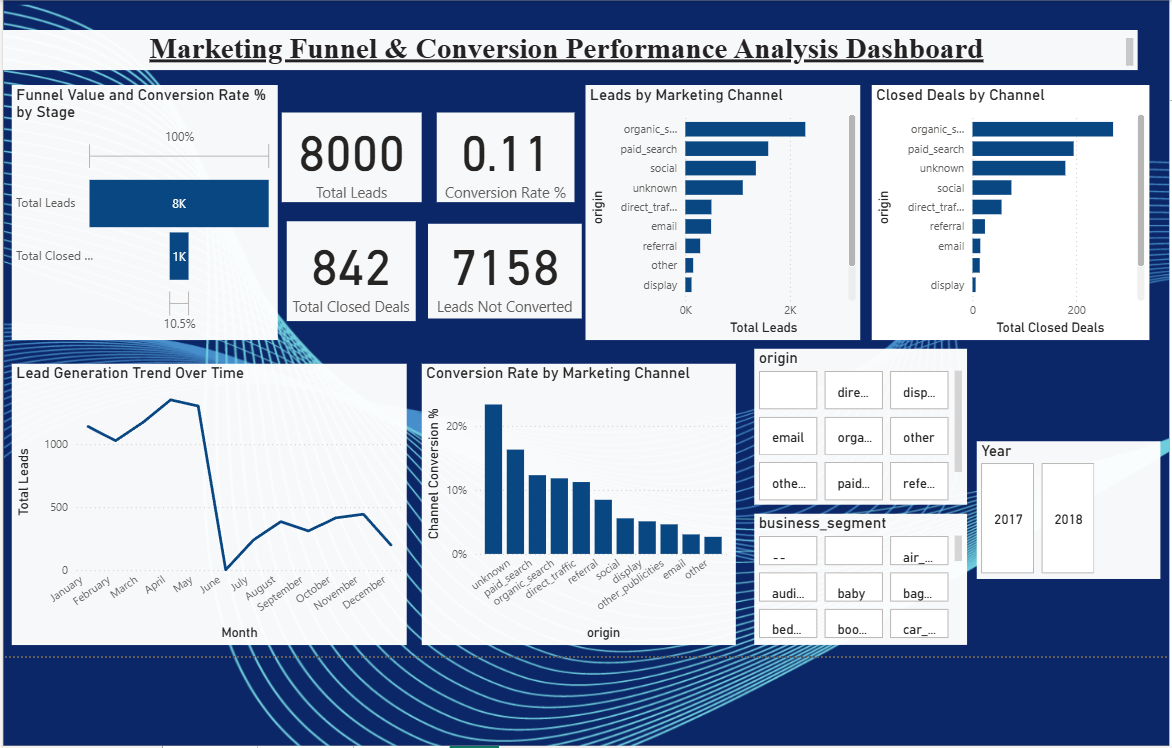

The page's visual inventory and layout, read from the dashboard file:
{"tool":"powerbi","page":{"name":"Page 3","canvas":[1280,720],"ordinal":0},"visuals":[{"type":"funnel","fields":{"Category":["Funnel Stages.Stage"],"Y":["Funnel Stages.Funnel Value"]},"box":[9.6,93.3,292.3,279.9],"z":0},{"type":"lineChart","title":"Lead Generation Trend Over Time","fields":{"Category":["olist_marketing_qualified_leads_dataset.first_contact_date.Variation.Date Hierarchy.Month"],"Y":["olist_closed_deals_dataset.Total Leads"]},"box":[9.6,399.3,433.6,308.7],"z":1000},{"type":"card","fields":{"Values":["olist_closed_deals_dataset.Total Leads"]},"box":[306,123.5,153.7,98.8],"z":2000},{"type":"card","fields":{"Values":["olist_closed_deals_dataset.Total Closed Deals"]},"box":[311.5,242.9,141.3,109.8],"z":3000},{"type":"card","fields":{"Values":["olist_closed_deals_dataset.Conversion Rate %"]},"box":[476.2,123.5,150.9,98.8],"z":4000},{"type":"card","fields":{"Values":["olist_closed_deals_dataset.Leads Not Converted"]},"box":[466.6,245.6,168.8,104.3],"z":5000},{"type":"clusteredBarChart","title":"Leads by Marketing Channel","fields":{"Y":["olist_closed_deals_dataset.Total Leads"],"Category":["olist_marketing_qualified_leads_dataset.origin"]},"box":[639.5,93.3,301.9,279.9],"z":6000},{"type":"clusteredBarChart","title":"Closed Deals by Channel","fields":{"Category":["olist_marketing_qualified_leads_dataset.origin"],"Y":["olist_closed_deals_dataset.Total Closed Deals"]},"box":[953.7,93.3,304.6,279.9],"z":7000},{"type":"clusteredColumnChart","title":"Conversion Rate by Marketing Channel","fields":{"Category":["olist_marketing_qualified_leads_dataset.origin"],"Y":["Funnel Stages.Channel Conversion %"]},"box":[459.7,399.3,344.4,308.7],"z":8000},{"type":"advancedSlicerVisual","fields":{"Values":["olist_marketing_qualified_leads_dataset.origin"]},"box":[824.7,382.8,233.3,171.5],"z":9000},{"type":"advancedSlicerVisual","fields":{"Values":["olist_closed_deals_dataset.business_segment"]},"box":[824.7,564,233.3,144.1],"z":10000},{"type":"advancedSlicerVisual","fields":{"Values":["olist_marketing_qualified_leads_dataset.first_contact_date.Variation.Date Hierarchy.Year"]},"box":[1069,484.4,201.7,150.9],"z":11000},{"type":"textbox","box":[0,32.9,1246,43.9],"z":12000}]}

Visuals, with their boxes in screenshot pixels (x1, y1, x2, y2):
funnel - Funnel Stages.Stage x Funnel Stages.Funnel Value: [12, 81, 276, 334]
"Lead Generation Trend Over Time" lineChart: [12, 358, 403, 636]
card - olist_closed_deals_dataset.Total Leads: [279, 108, 418, 198]
card - olist_closed_deals_dataset.Total Closed Deals: [284, 216, 412, 315]
card - olist_closed_deals_dataset.Conversion Rate %: [433, 108, 569, 198]
card - olist_closed_deals_dataset.Leads Not Converted: [424, 219, 577, 313]
"Leads by Marketing Channel" clusteredBarChart: [580, 81, 853, 334]
"Closed Deals by Channel" clusteredBarChart: [864, 81, 1139, 334]
"Conversion Rate by Marketing Channel" clusteredColumnChart: [418, 358, 729, 636]
advancedSlicerVisual - olist_marketing_qualified_leads_dataset.origin: [748, 343, 958, 497]
advancedSlicerVisual - olist_closed_deals_dataset.business_segment: [748, 506, 958, 636]
advancedSlicerVisual - olist_marketing_qualified_leads_dataset.first_contact_date.Variation.Date Hierarchy.Year: [968, 434, 1150, 571]
textbox: [3, 27, 1128, 66]
